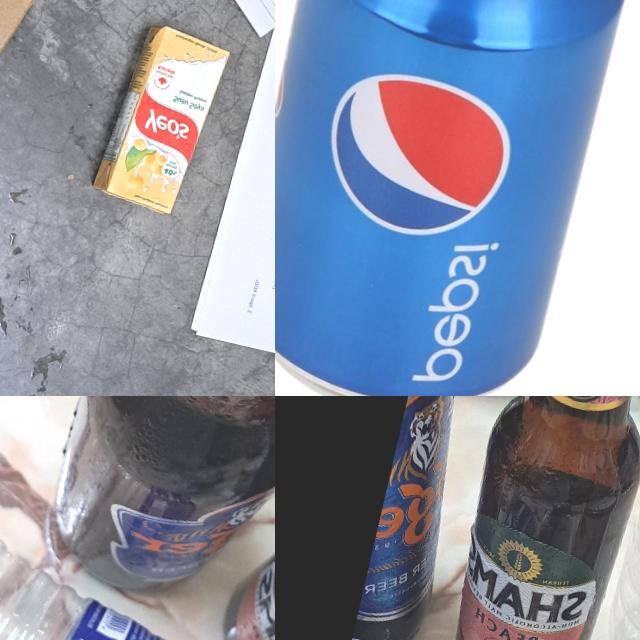caixinha: (95, 18, 232, 219)
garrafa de vidro: (34, 396, 275, 625), (430, 396, 640, 640), (353, 396, 493, 640), (210, 453, 275, 640)
garrafa plástica: (0, 484, 275, 640)
lata: (275, 0, 640, 396)
papel: (101, 0, 275, 396)
papelão: (0, 0, 73, 286)
